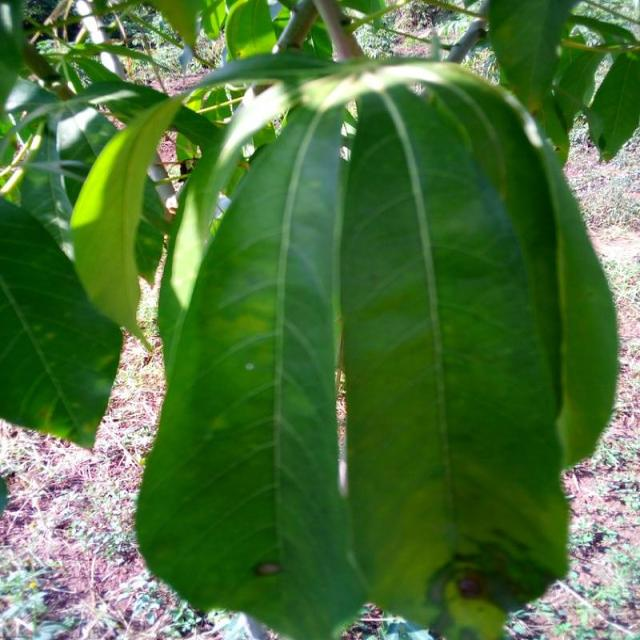cassava leaf: (133, 57, 619, 638), (134, 72, 367, 638), (0, 192, 123, 449)
